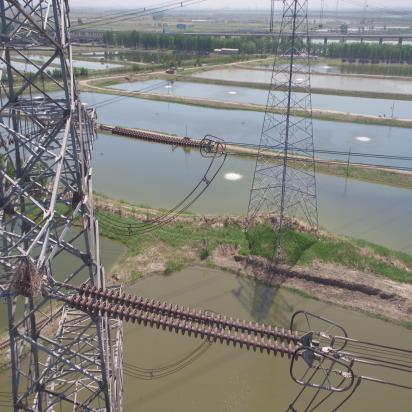insulator: (62, 283, 308, 363), (109, 125, 208, 151)
